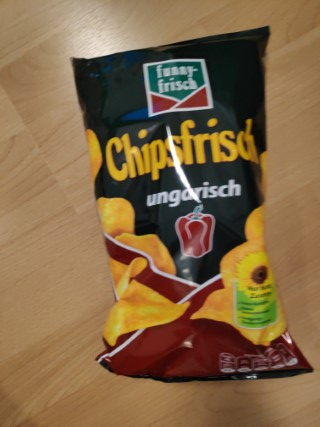chipsfrisch: (68, 25, 314, 383)
